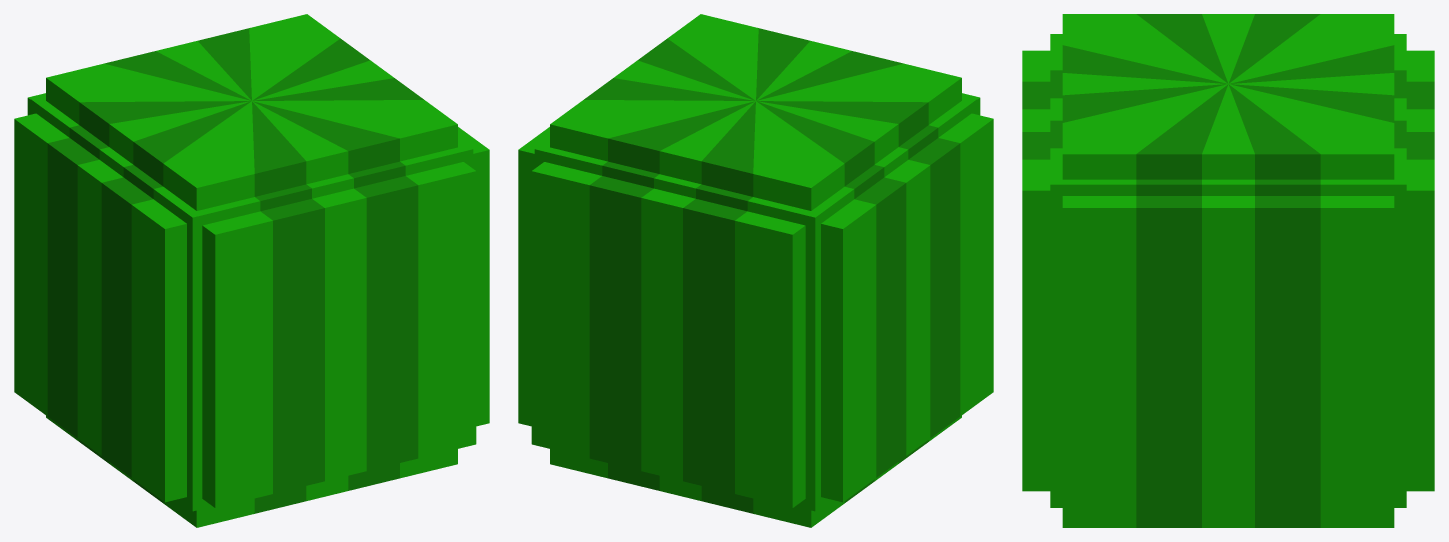
Rendered from Semangka.fbx.
3 views of the same model, side by side, from view 1: azimuth 30°, elevation 25°; view 2: azimuth 150°, elevation 25°; view 3: azimuth 270°, elevation 25° (orthographic). The views are drawn at different scales.
Visible parts, largest first — view 1: Cube.005; view 2: Cube.005; view 3: Cube.005.
Part boxes in pixels (x1,y1,x2,y2): Cube.005: (14, 14, 489, 527); Cube.005: (518, 14, 993, 527); Cube.005: (1022, 14, 1434, 527).
Size of the model in its own units: 77.06 by 77.06 by 77.06.
